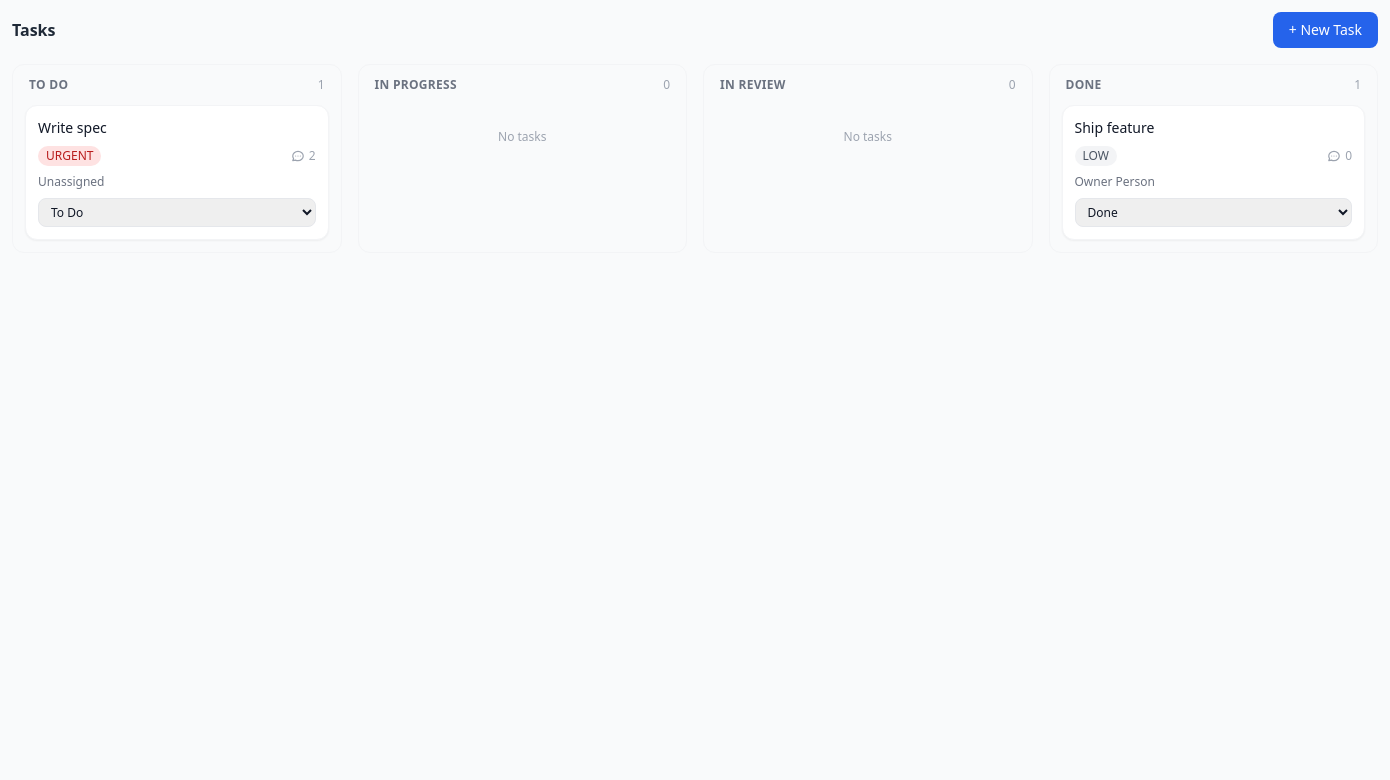
Test: KanbanBoard › cancels the new task form without creating a task
The image size is (1390, 780).
Expected: the link "Write spec" is shown, x1=38 y1=118 x2=107 y2=137
Click the button "+ New Task" at (1325,30), box x1=1273 y1=12 x2=1378 y2=48
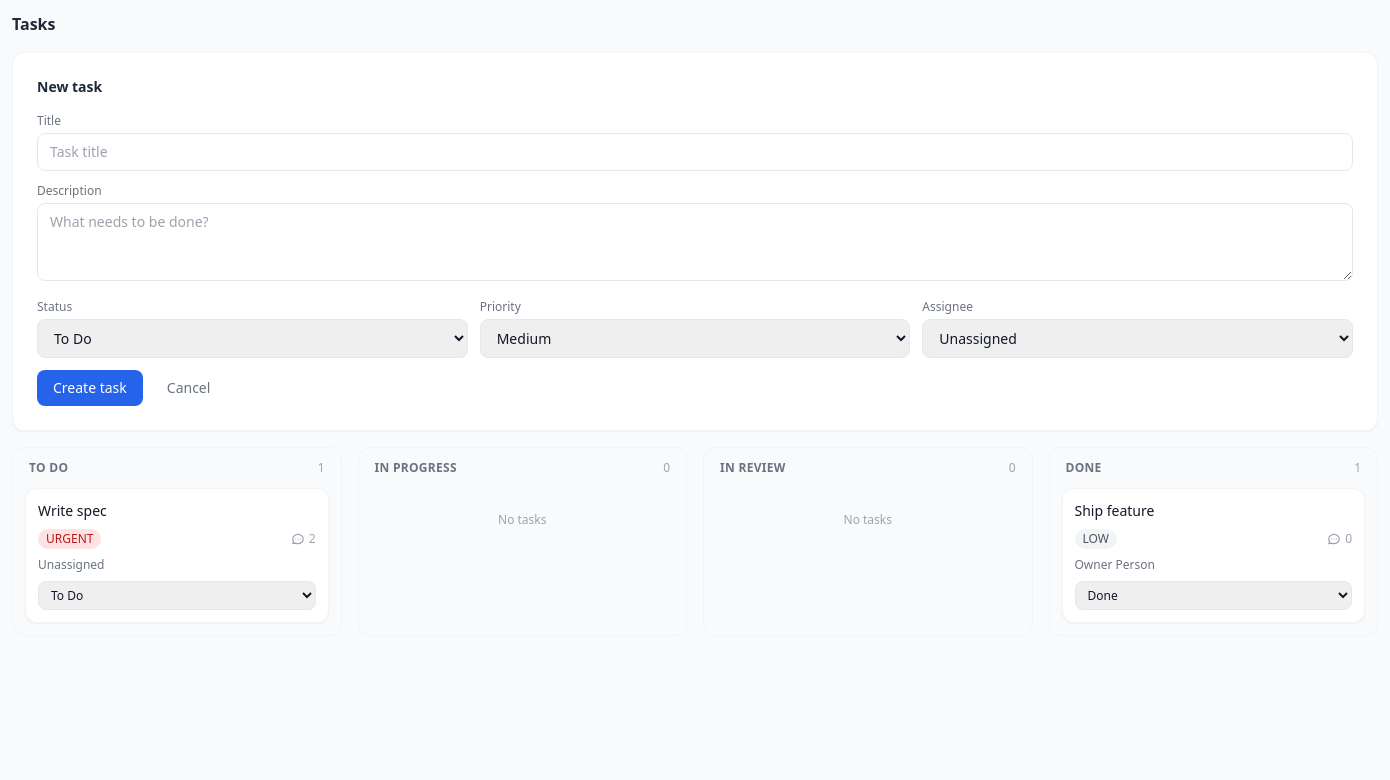
Now the field labelled "Title" is shown, box x1=37 y1=133 x2=1353 y2=171
Click the button "Cancel" at (189,388), box x1=151 y1=370 x2=226 y2=406
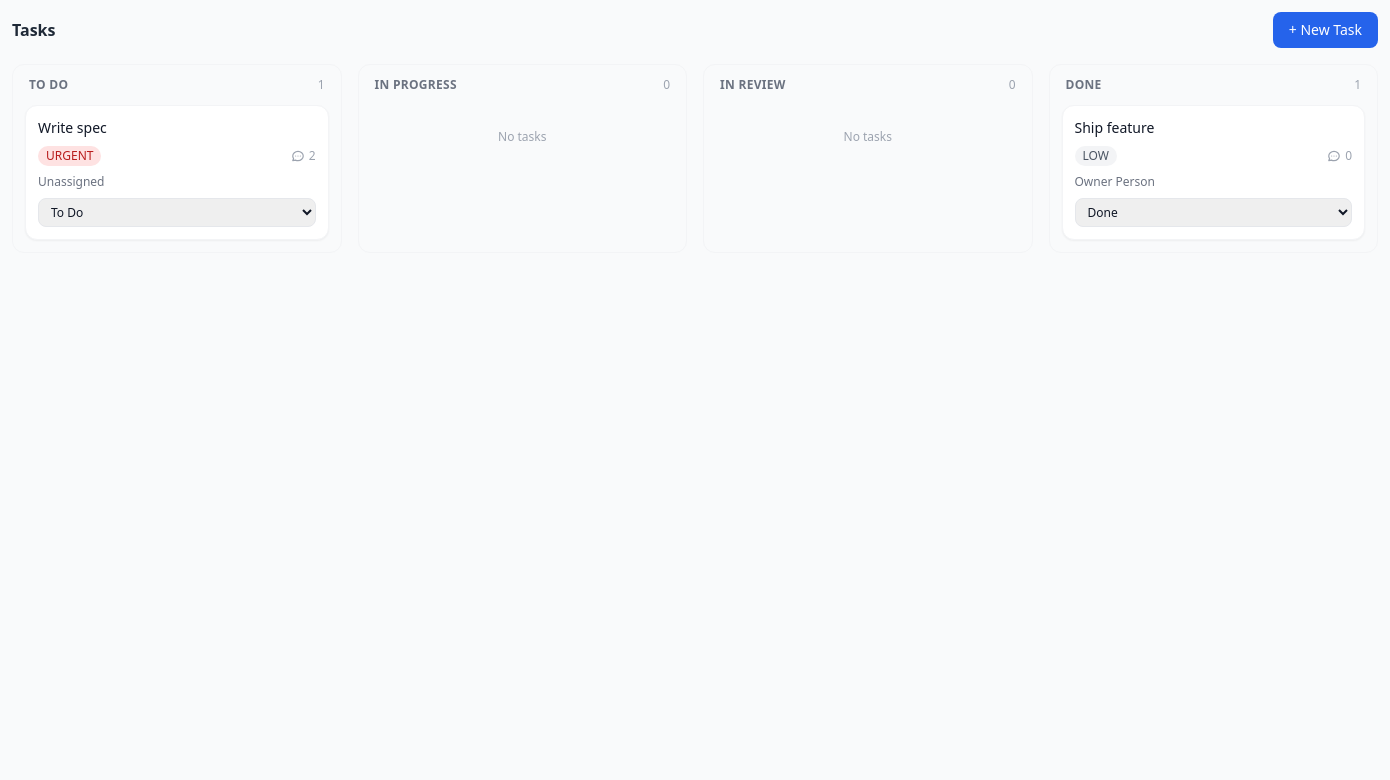
Now the label labelled "Title" is gone
